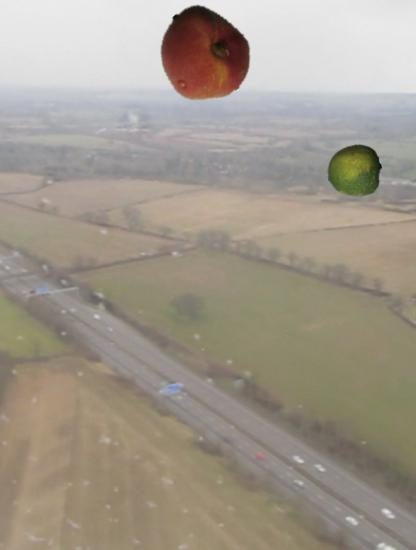Limes: (327, 144, 382, 199)
Nectarine: (154, 6, 253, 105)
